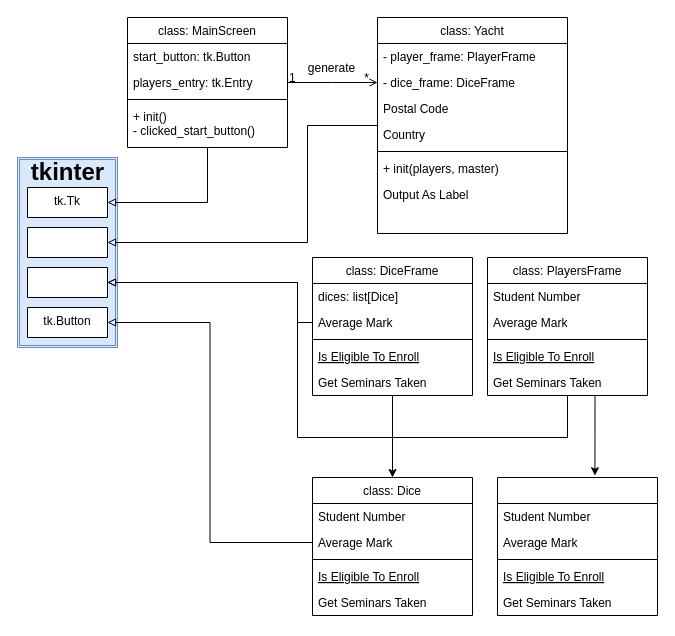
Image size: 675x636. Some labels were removed from this diagram. The box of each missing label's shape, as (x1, y1, x2, y2) in pixels:
class: Player: (496, 476, 658, 616)
tk.Frame: (26, 266, 108, 298)
tk.TopLevel: (26, 226, 108, 258)
